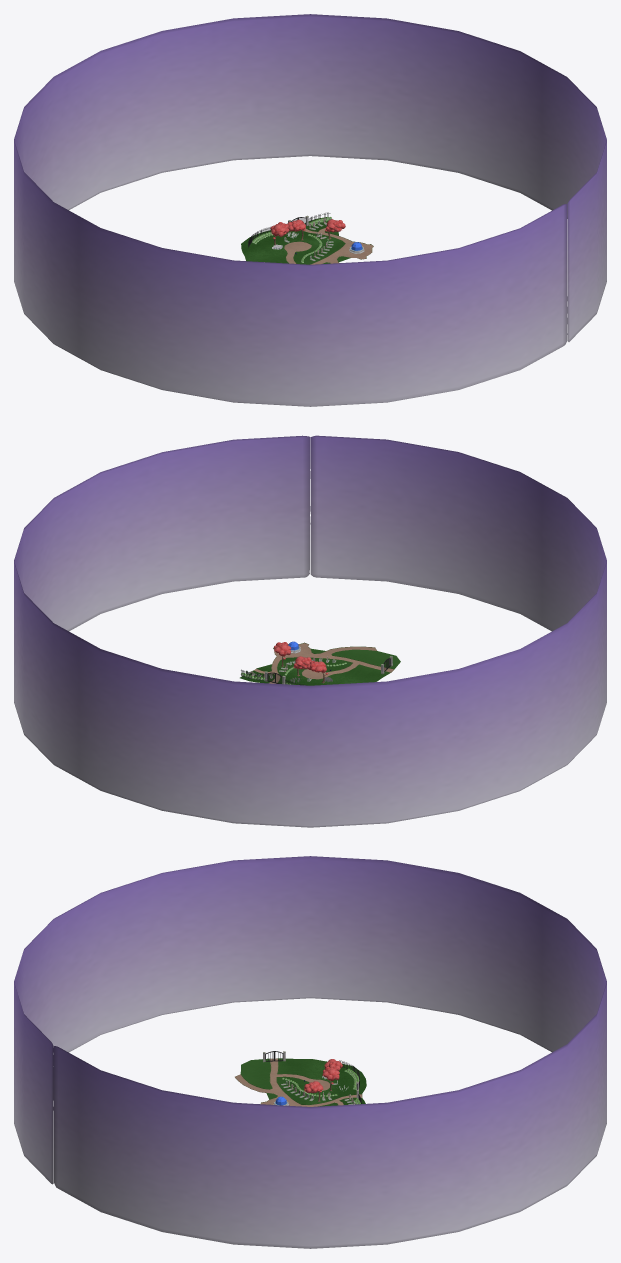
The model's file is gg_Scene_MainMenu.FBX.
The picture shows the model from 3 angles, top to bottom: view 1: azimuth 30°, elevation 25°; view 2: azimuth 150°, elevation 25°; view 3: azimuth 270°, elevation 25°; orthographic projection.
Parts seen in each view (by area): view 1: gg_SkyCylinder, gg_Graveyard; view 2: gg_SkyCylinder, gg_Graveyard; view 3: gg_SkyCylinder, gg_Graveyard.
Boxes of the visible parts, x1,y1,x2,y2 form: gg_SkyCylinder: (14, 14, 606, 406); gg_Graveyard: (241, 217, 373, 264); gg_SkyCylinder: (14, 435, 606, 827); gg_Graveyard: (240, 642, 400, 685); gg_SkyCylinder: (14, 856, 606, 1248); gg_Graveyard: (235, 1058, 366, 1106).
Bounding box in the file's own units: 10704 × 2831 × 10704.
